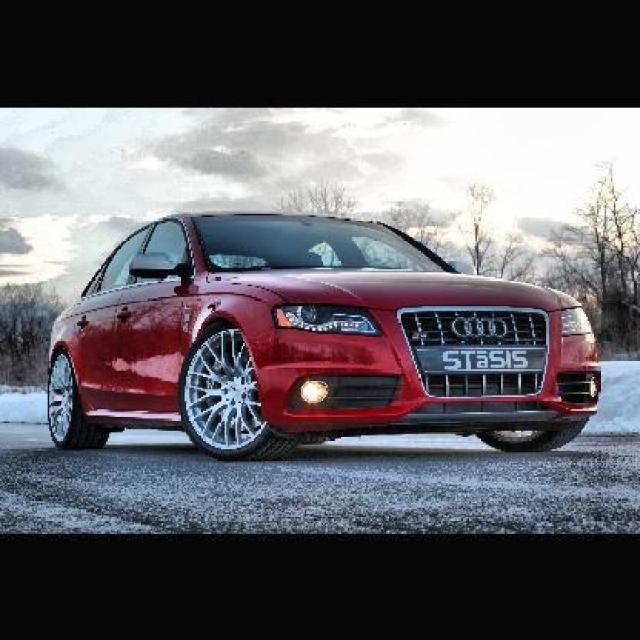red: (42, 219, 574, 437)
